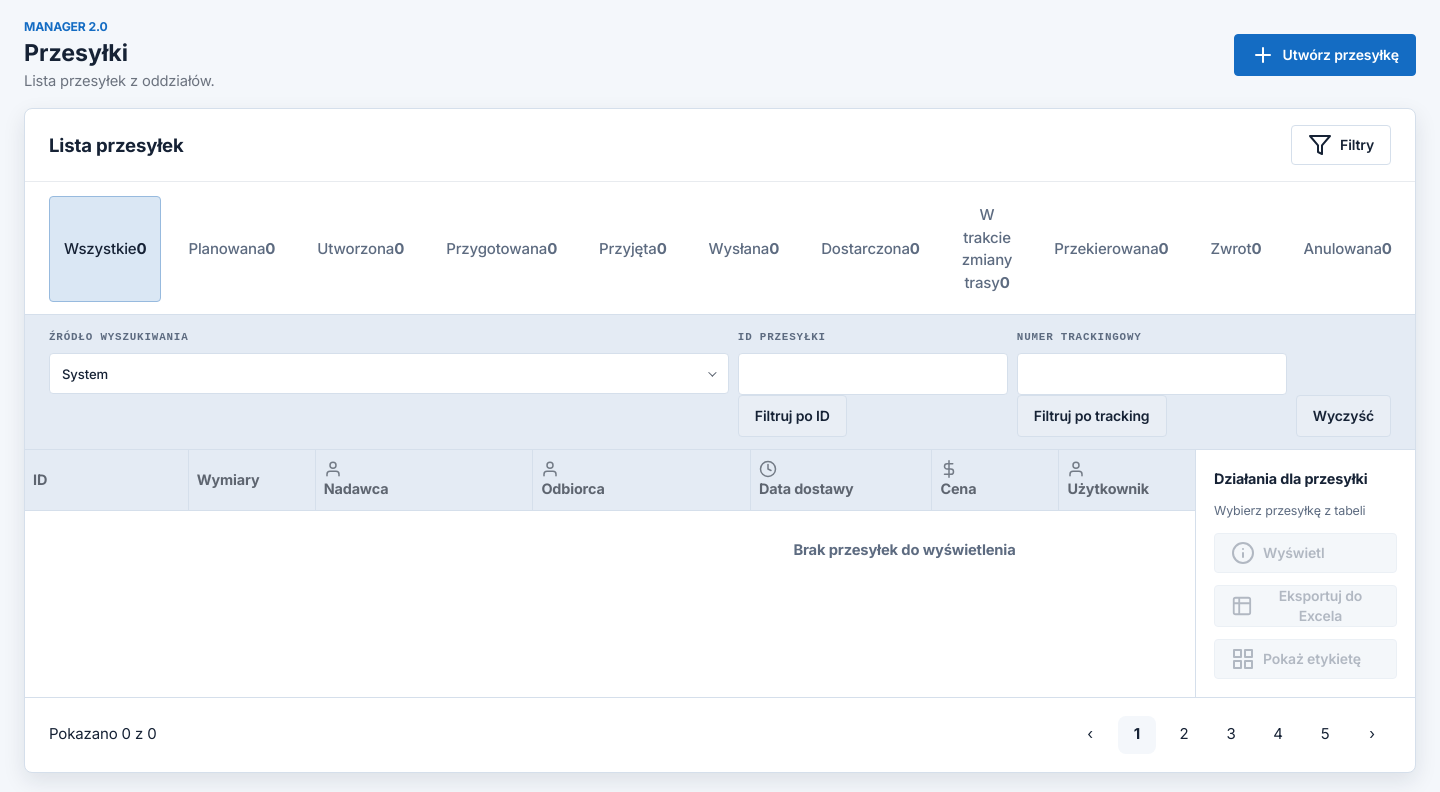
external tracking search › searches InPost and renders the common tracking history
Press the mouse on the dropdown named "Źródło wyszukiwania" at {"x": 85, "y": 374}, box top-left (50, 354), bottom-right (728, 393)
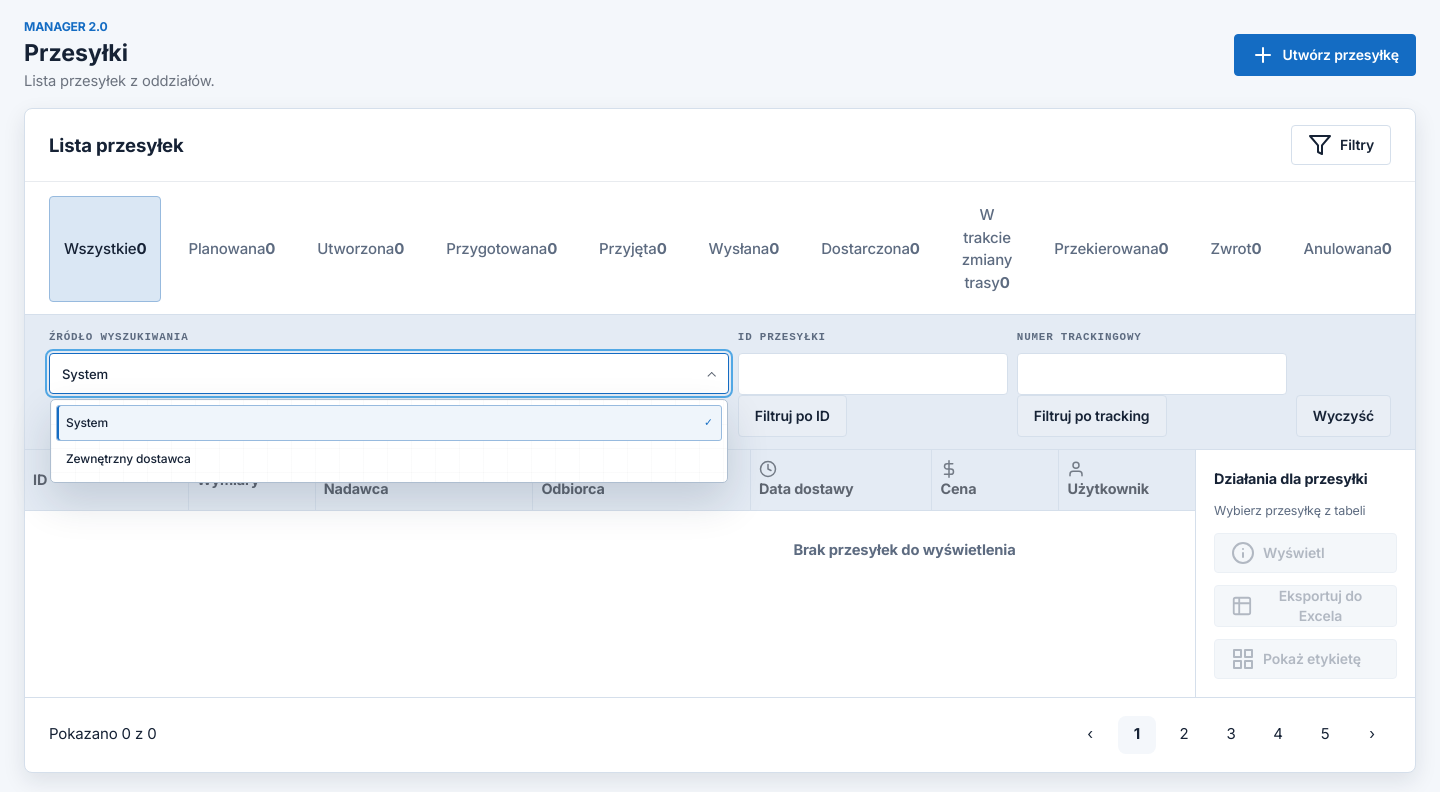
Click the option "Zewnętrzny dostawca" at {"x": 128, "y": 459}, box top-left (56, 441), bottom-right (722, 477)
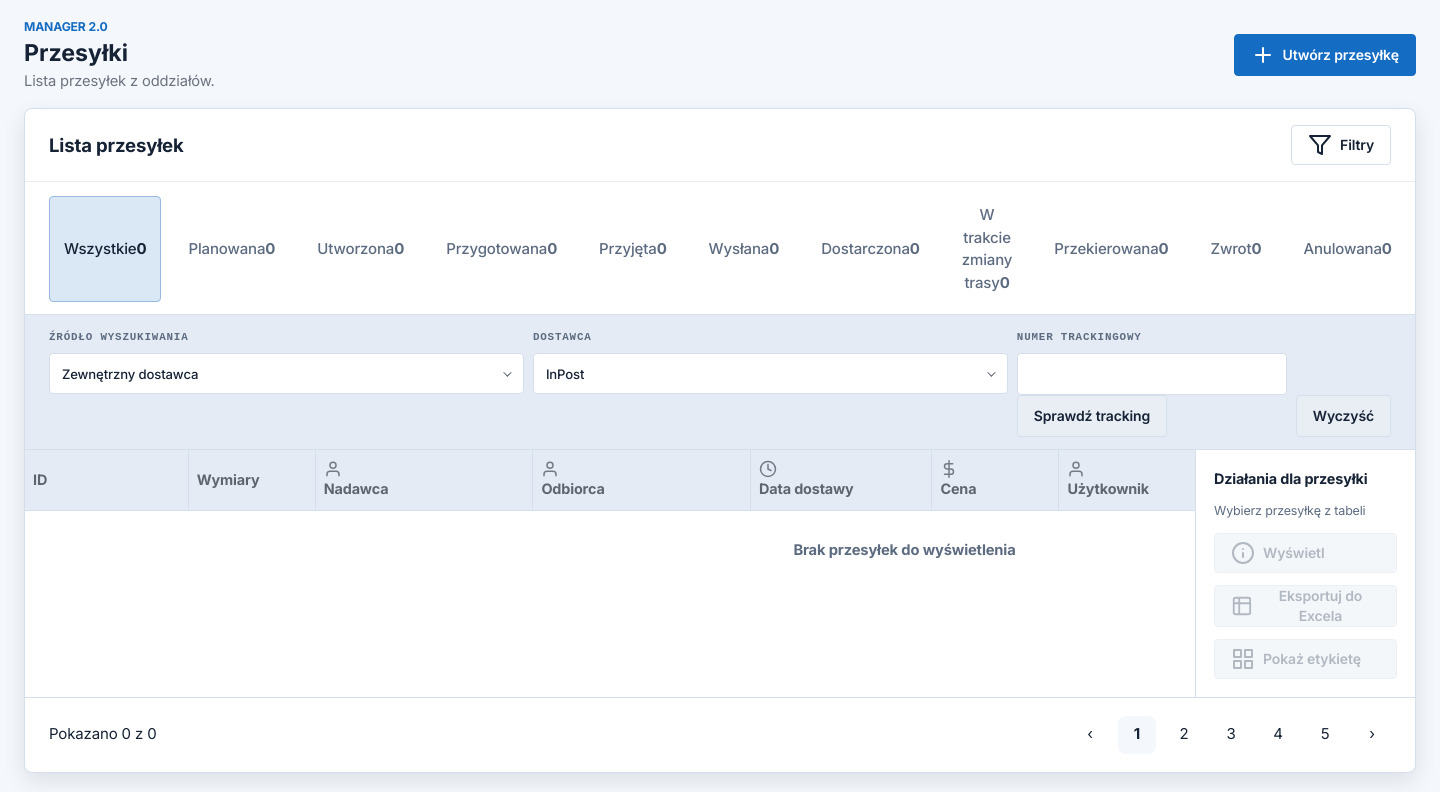
Expected: the dropdown named "Dostawca" reads "InPost", top-left (534, 354), bottom-right (1007, 393)
Type "TRACK123456" into the field labelled "Numer trackingowy" at {"x": 1152, "y": 374}, box top-left (1017, 353), bottom-right (1287, 395)
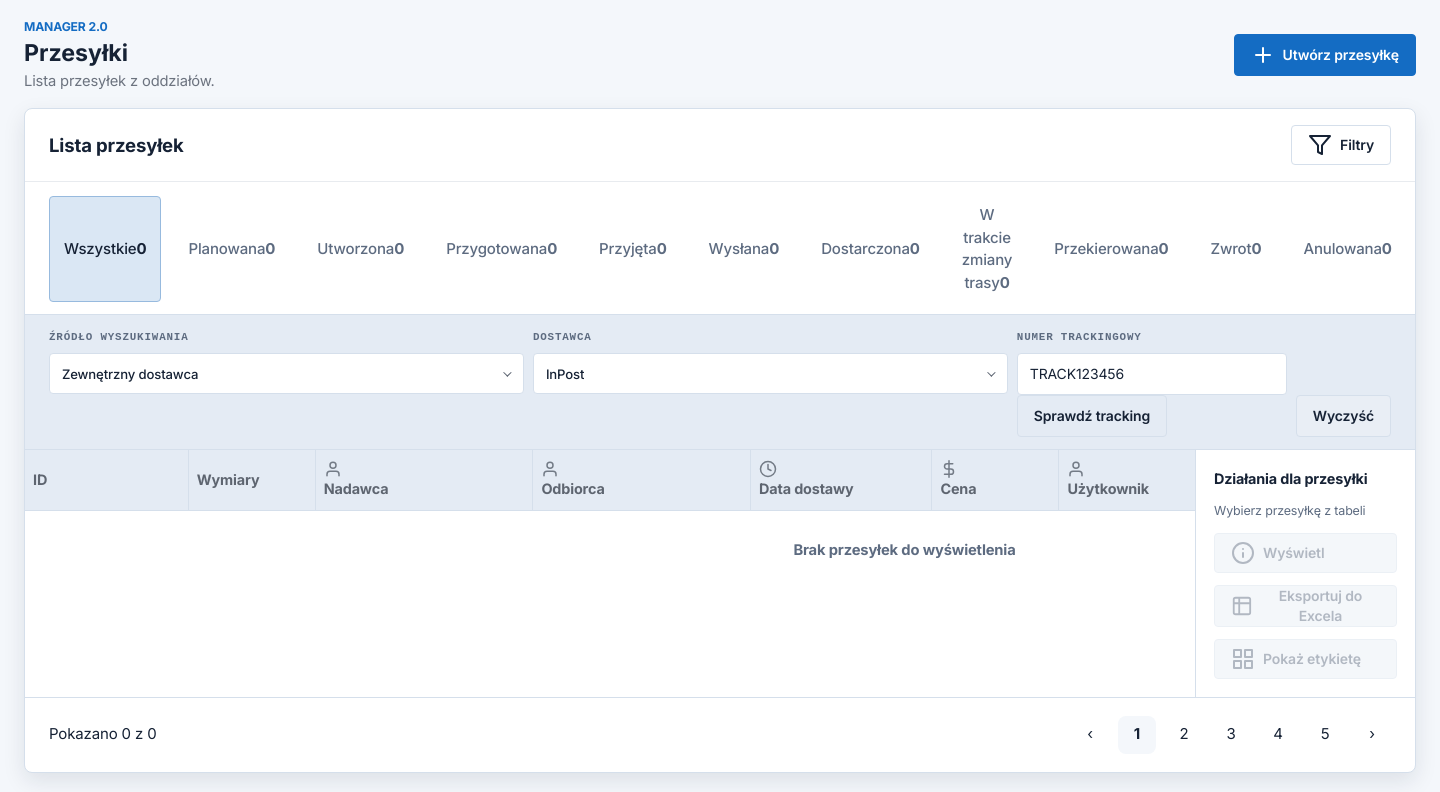
Click the button "Sprawdź tracking" at {"x": 1092, "y": 416}, box top-left (1017, 395), bottom-right (1167, 437)
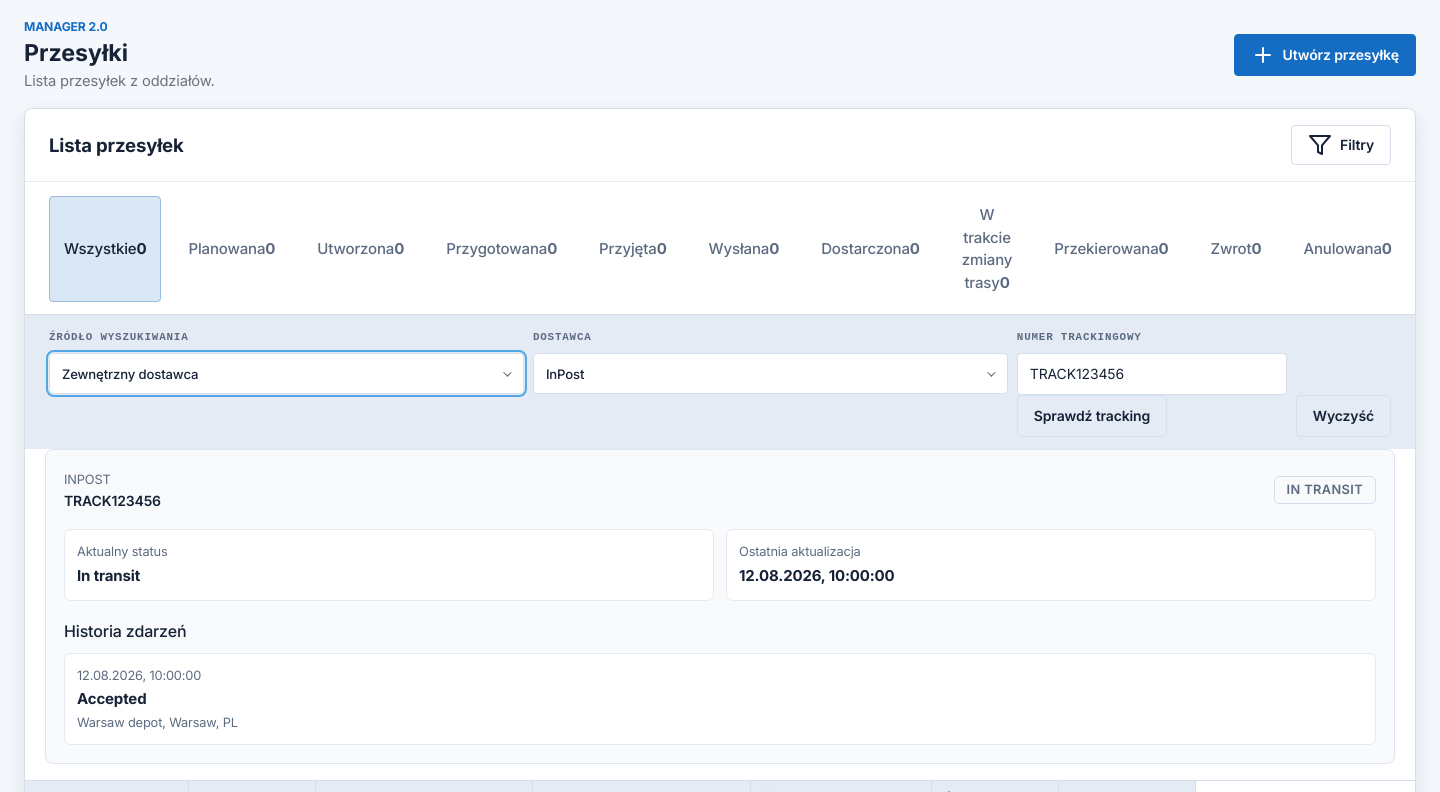
Expected: the text "In transit" in the row of "TRACK123456" is shown, top-left (1287, 482), bottom-right (1363, 497)
Expected: the text "Accepted" is shown, top-left (77, 689), bottom-right (146, 708)
Expected: the text "Warsaw depot, Warsaw, PL" is shown, top-left (77, 715), bottom-right (238, 730)
